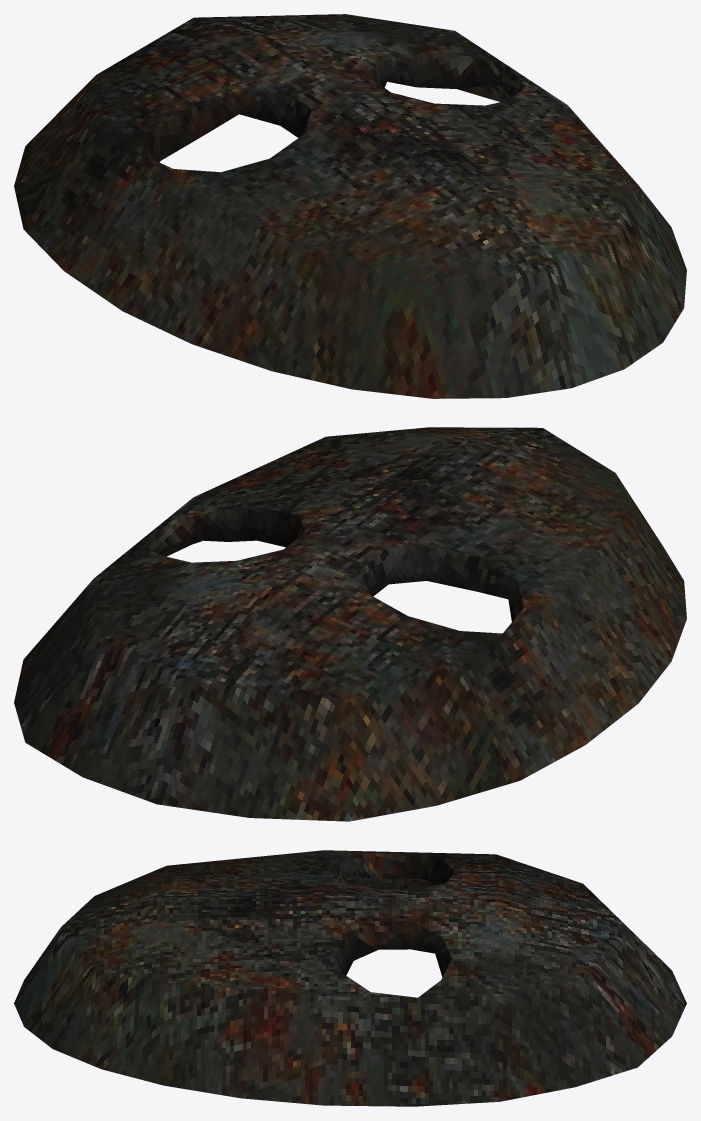
Rendered from mask_mx_4.glb.
The picture shows the model from 3 angles, top to bottom: view 1: azimuth 30°, elevation 25°; view 2: azimuth 150°, elevation 25°; view 3: azimuth 270°, elevation 25°; orthographic projection. The views are drawn at different scales.
Visible parts, largest first — view 1: mask_mx_4; view 2: mask_mx_4; view 3: mask_mx_4.
Boxes of the visible parts, bbox=[...] form: mask_mx_4: bbox=[14, 14, 686, 398]; mask_mx_4: bbox=[14, 427, 686, 821]; mask_mx_4: bbox=[14, 850, 686, 1106].
Size of the model in its own units: 0.2322 by 0.0554 by 0.3198.
1 material, 1 textured.
